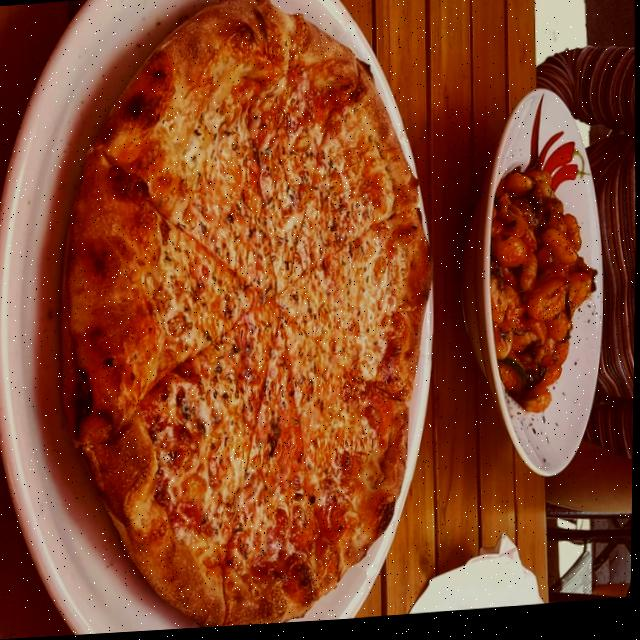pizza: (54, 0, 441, 637)
